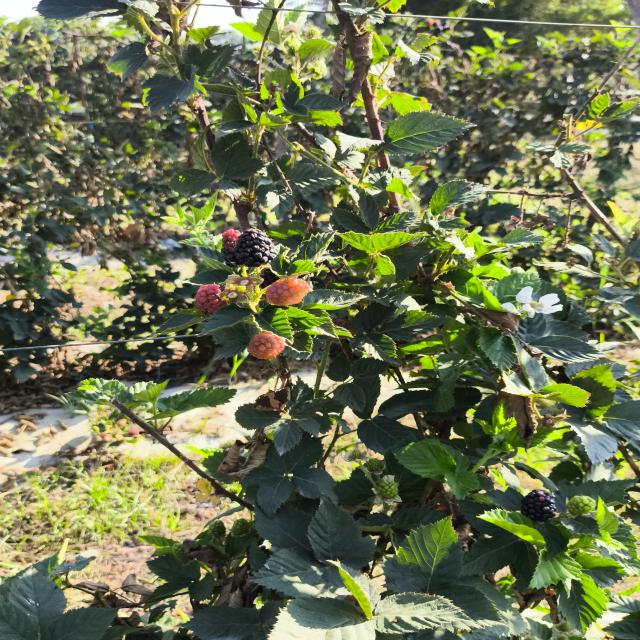maduro: (225, 229, 276, 268)
naranja: (265, 278, 309, 305), (248, 332, 285, 359), (195, 284, 227, 314)
